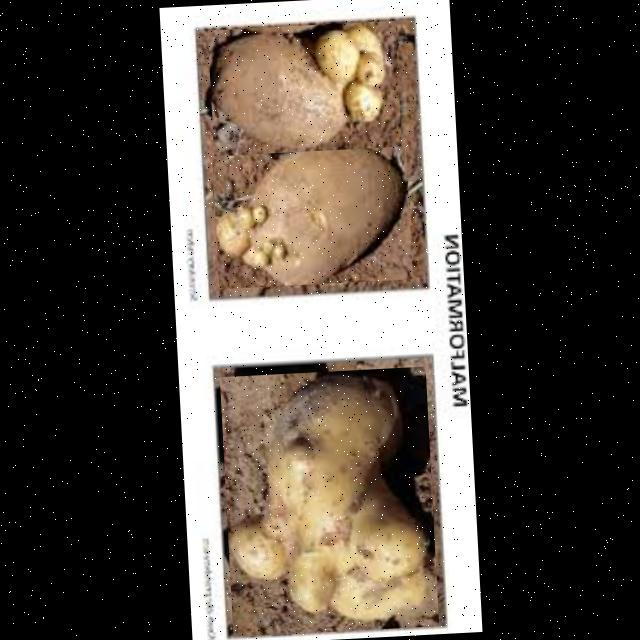Damaged potato: (219, 367, 438, 637), (211, 140, 412, 290), (207, 20, 401, 156)
